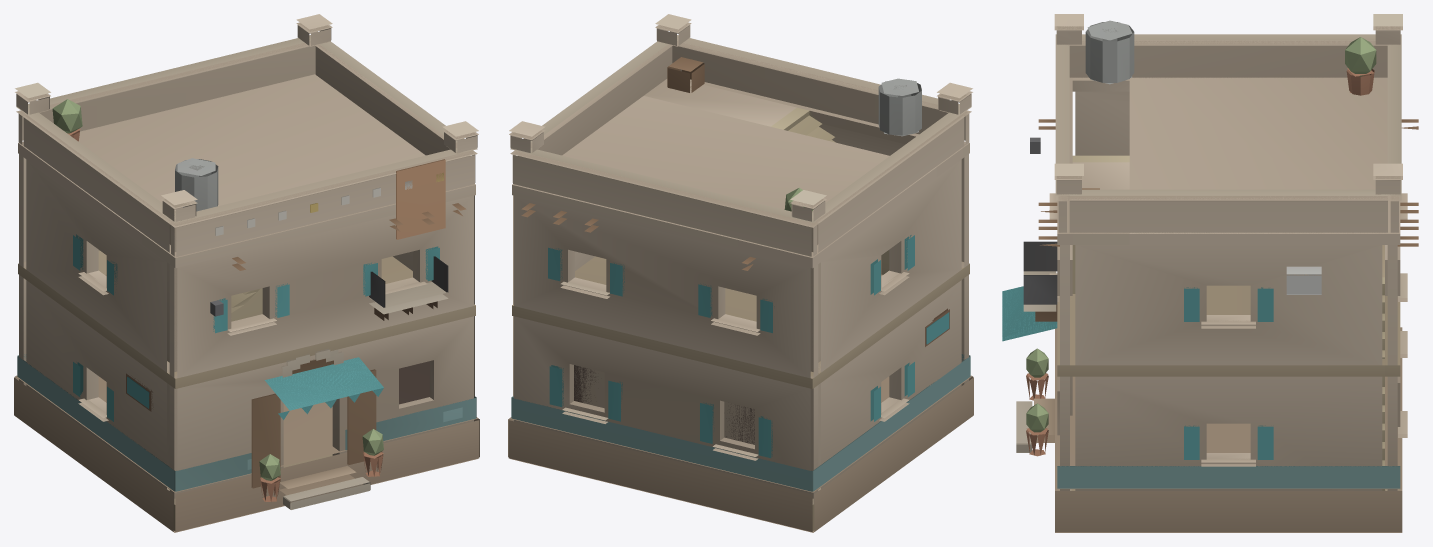
The model's file is house_3.lod.glb.
The picture shows the model from 3 angles, left to right: view 1: azimuth 30°, elevation 25°; view 2: azimuth 150°, elevation 25°; view 3: azimuth 270°, elevation 25°; orthographic projection. The views are drawn at different scales.
Visible parts, largest first — view 1: house_3; view 2: house_3; view 3: house_3.
Boxes of the visible parts, box(x1,y1,x2,y2) form: house_3: box(14, 14, 479, 532); house_3: box(508, 14, 973, 532); house_3: box(1002, 14, 1418, 532).
Bounding box in the file's own units: 9.23 × 9.3 × 9.47.
